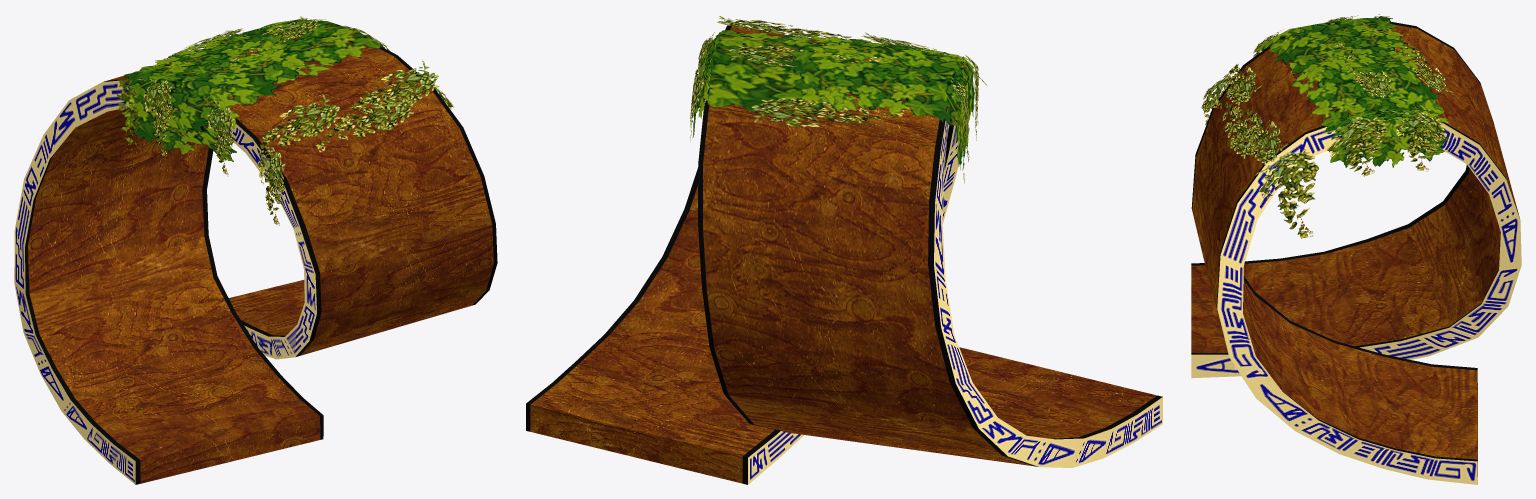
The model's file is jungle_loop_small.gltf.
3 views of the same model, side by side, from view 1: azimuth 30°, elevation 25°; view 2: azimuth 150°, elevation 25°; view 3: azimuth 270°, elevation 25° (orthographic). The views are drawn at different scales.
Visible parts, largest first — view 1: jungle_loop_small_glb; view 2: jungle_loop_small_glb; view 3: jungle_loop_small_glb.
Boxes of the visible parts, left/top/right/bottom form: jungle_loop_small_glb: left=14, top=16, right=497, bottom=484; jungle_loop_small_glb: left=526, top=16, right=1162, bottom=484; jungle_loop_small_glb: left=1191, top=14, right=1521, bottom=484.
Size of what is drawn, in the model's own units: 4.5 by 3.47 by 3.17.
Materials: 2 (2 with a texture image).
